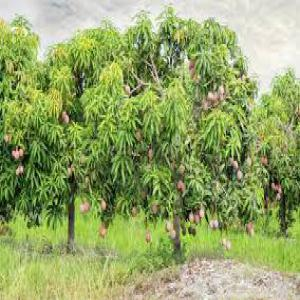Tree: (126, 12, 256, 256), (42, 19, 123, 244)
